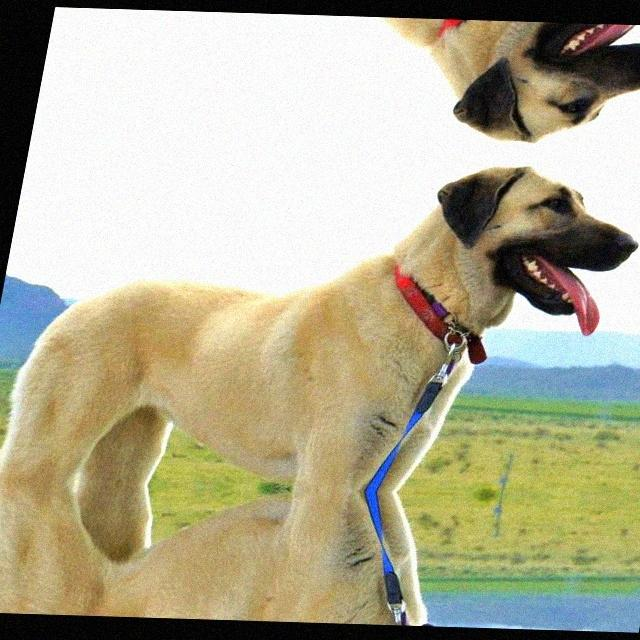dog: (0, 146, 640, 498), (0, 479, 594, 631), (58, 8, 640, 150)
